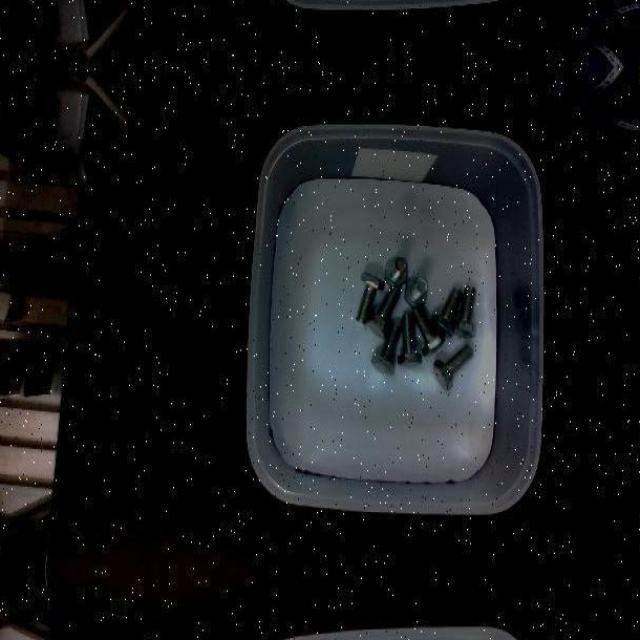screw: (434, 344, 474, 389), (365, 285, 399, 336), (430, 287, 463, 338), (411, 304, 445, 353), (371, 322, 402, 374), (356, 270, 384, 322), (398, 314, 422, 366), (452, 286, 475, 338), (385, 255, 407, 286), (406, 277, 428, 306)
